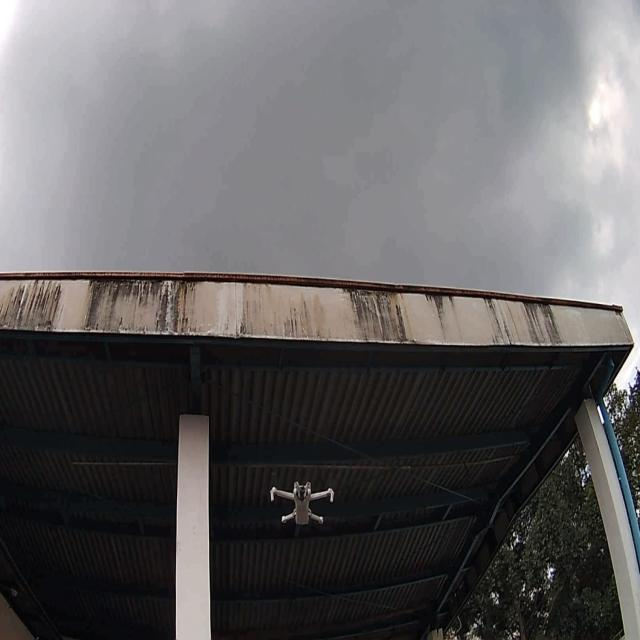drone: (269, 479, 334, 526)
